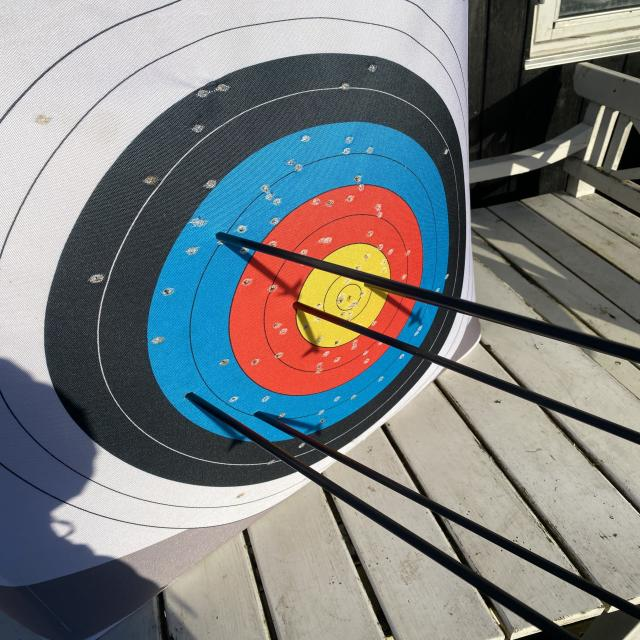Arrow_Blue: (210, 219, 243, 256), (248, 405, 286, 434), (176, 383, 216, 405)
Arrow_Red: (283, 299, 332, 326)
Arrow_Yellow: (352, 279, 388, 300)
